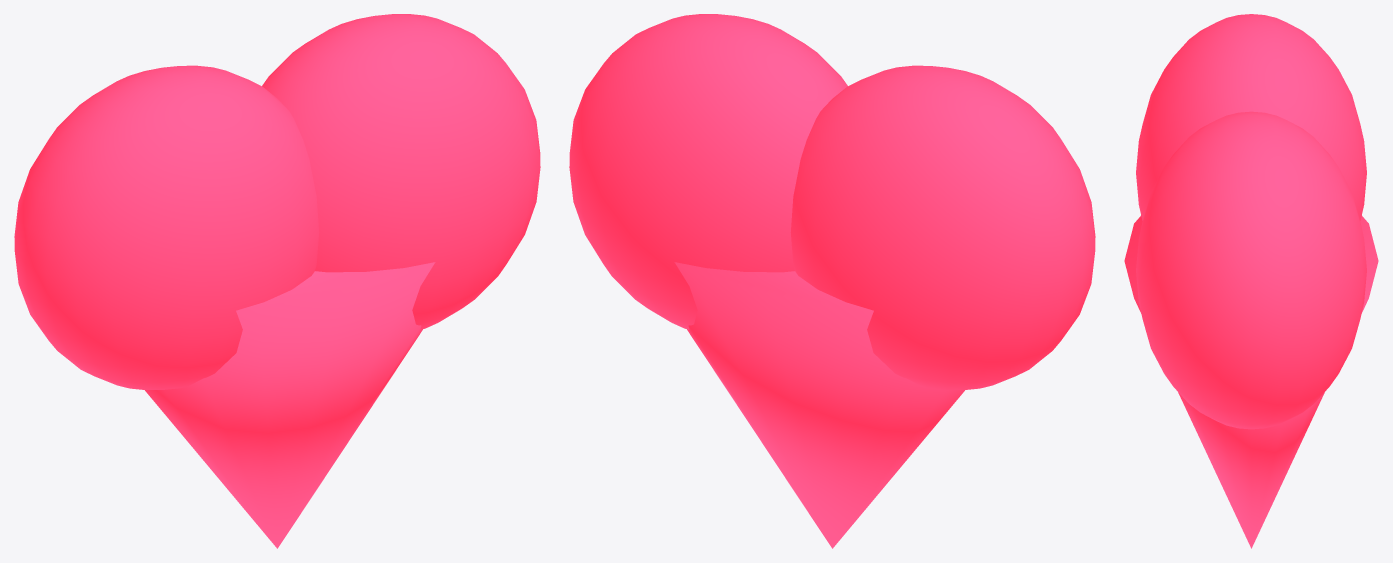
File: heart.glb
The picture shows the model from 3 angles, left to right: view 1: azimuth 30°, elevation 25°; view 2: azimuth 150°, elevation 25°; view 3: azimuth 270°, elevation 25°; orthographic projection. The views are drawn at different scales.
Parts seen in each view (by area): view 1: Body; view 2: Body; view 3: Body.
Boxes of the visible parts, bbox=[...] form: Body: bbox=[14, 14, 540, 548]; Body: bbox=[569, 14, 1095, 548]; Body: bbox=[1124, 14, 1378, 548].
Size of the model in its own units: 0.38 by 0.36 by 0.176.
